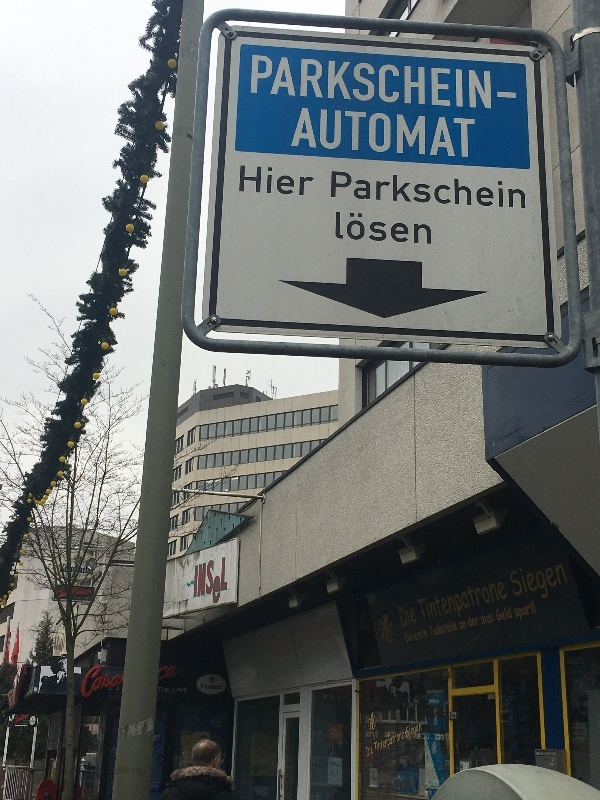text: (257, 55, 272, 110), (273, 55, 288, 110), (289, 55, 304, 110), (305, 55, 320, 110), (321, 55, 336, 110), (337, 55, 352, 110), (353, 55, 368, 110), (369, 55, 384, 110), (385, 55, 400, 110), (401, 55, 416, 110), (417, 55, 432, 110), (433, 55, 448, 110), (449, 55, 464, 110), (465, 55, 480, 110), (305, 108, 320, 158), (321, 108, 336, 158), (337, 108, 352, 158), (353, 108, 368, 158), (369, 108, 384, 158), (385, 108, 400, 158), (401, 108, 416, 158), (417, 108, 432, 158), (433, 108, 448, 158), (449, 108, 464, 158), (209, 556, 224, 606), (417, 578, 432, 627), (433, 578, 448, 627), (449, 578, 464, 627), (465, 578, 480, 627), (481, 578, 496, 627), (513, 561, 528, 605), (529, 561, 544, 605), (545, 561, 560, 605), (481, 55, 492, 110), (196, 556, 208, 606), (337, 172, 352, 209), (353, 172, 368, 209), (369, 172, 384, 209), (385, 172, 400, 209), (401, 172, 416, 209), (417, 172, 432, 209), (433, 172, 448, 209), (449, 172, 464, 209), (465, 172, 480, 209), (481, 172, 496, 209), (497, 172, 512, 209), (497, 578, 508, 627), (465, 108, 475, 158), (513, 172, 526, 209), (97, 666, 112, 698), (337, 212, 352, 244), (353, 212, 368, 244), (369, 212, 384, 244), (385, 212, 400, 244), (401, 212, 416, 244), (241, 166, 256, 197), (257, 166, 272, 197), (273, 166, 288, 197), (289, 166, 304, 197), (417, 212, 431, 244), (385, 730, 400, 758), (83, 666, 96, 698), (561, 561, 570, 605), (113, 666, 125, 698), (401, 603, 416, 627), (514, 601, 528, 623), (374, 730, 384, 758), (433, 620, 448, 637), (161, 664, 176, 681), (305, 166, 313, 197), (497, 607, 512, 622), (17, 714, 32, 726), (406, 723, 416, 741), (529, 601, 537, 623), (253, 55, 256, 110), (481, 615, 496, 625), (332, 172, 336, 209), (449, 620, 457, 637), (509, 561, 512, 605), (468, 617, 480, 628), (417, 630, 428, 641), (404, 633, 416, 643), (161, 687, 176, 694), (302, 108, 304, 158), (225, 556, 227, 606), (81, 567, 92, 576), (209, 683, 223, 690), (417, 723, 422, 741), (401, 730, 404, 758), (498, 92, 512, 98), (71, 567, 80, 576), (177, 687, 188, 694), (436, 735, 448, 741), (428, 620, 432, 637), (369, 745, 373, 758), (201, 683, 208, 690), (398, 603, 400, 627), (459, 621, 464, 630), (60, 563, 64, 574), (65, 563, 68, 574), (417, 603, 418, 627), (414, 630, 416, 641), (465, 621, 467, 630), (513, 92, 516, 98), (159, 664, 160, 681), (177, 664, 178, 681), (367, 745, 368, 758), (159, 687, 160, 694)
